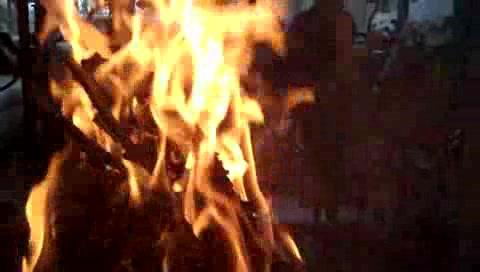fire: (26, 9, 272, 251)
